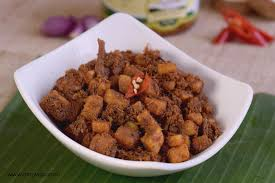rendang: (42, 32, 232, 162)
